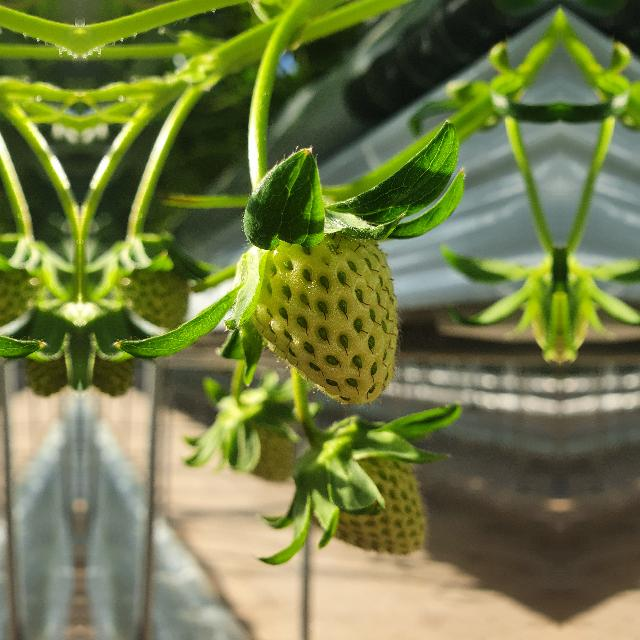Health_25: (251, 232, 397, 404), (308, 425, 432, 555)
